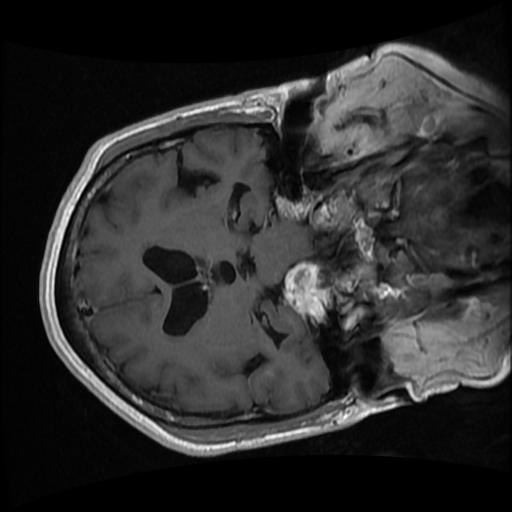meningioma: (282, 265, 331, 325)
